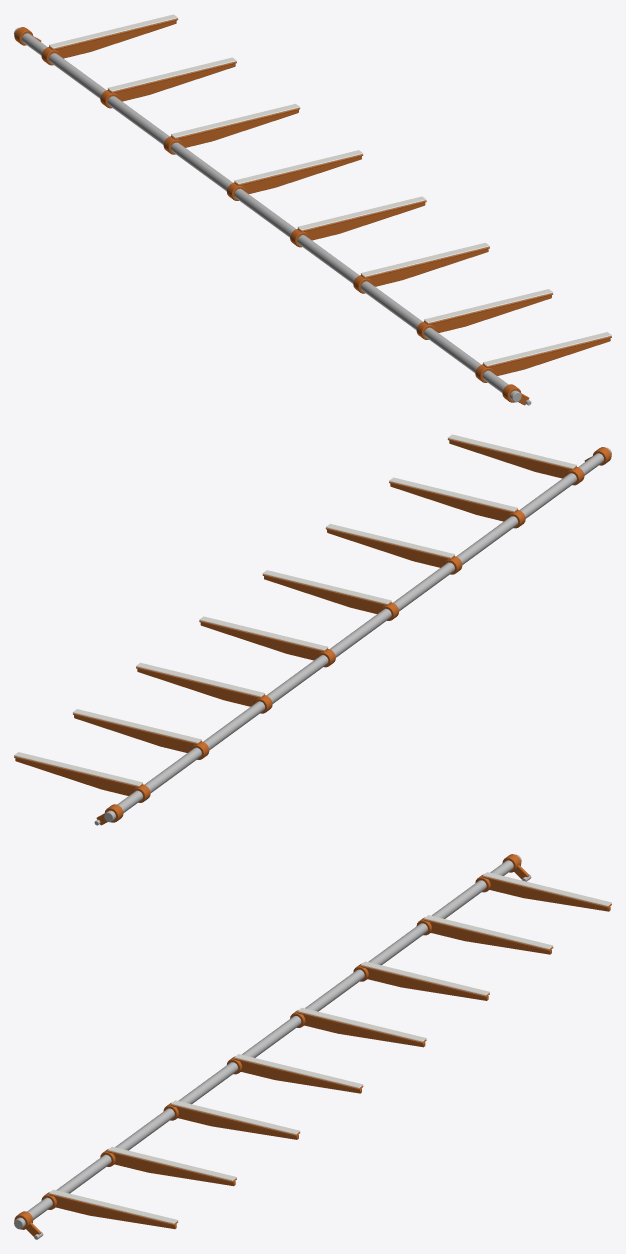
Rendered from sorter_gate.glb.
3 renders of one model, top to bottom at view 1: azimuth 30°, elevation 25°; view 2: azimuth 150°, elevation 25°; view 3: azimuth 330°, elevation 25°, orthographic.
Parts seen in each view (by area): view 1: Gate; view 2: Gate; view 3: Gate.
Part boxes in pixels (x1,y1,x2,y2): Gate: (14, 14, 611, 405); Gate: (14, 434, 611, 825); Gate: (14, 854, 611, 1239).
Size of the model in its own units: 0.845 by 0.1483 by 5.52.
